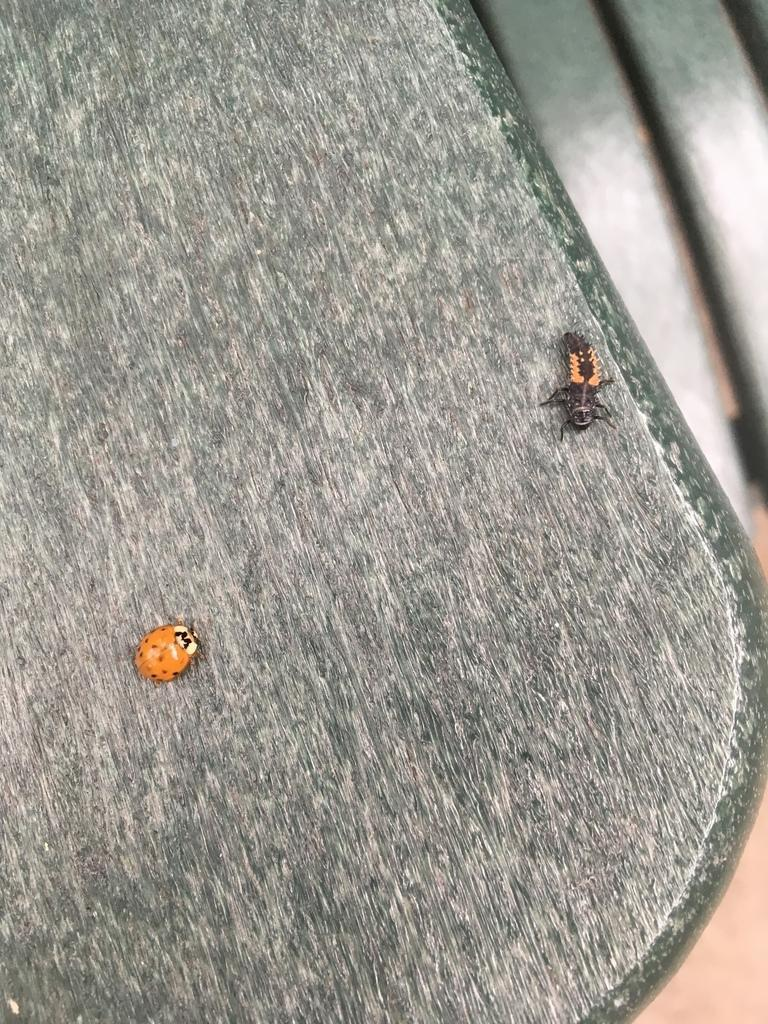ladybug: (537, 328, 622, 447), (134, 621, 207, 687)
